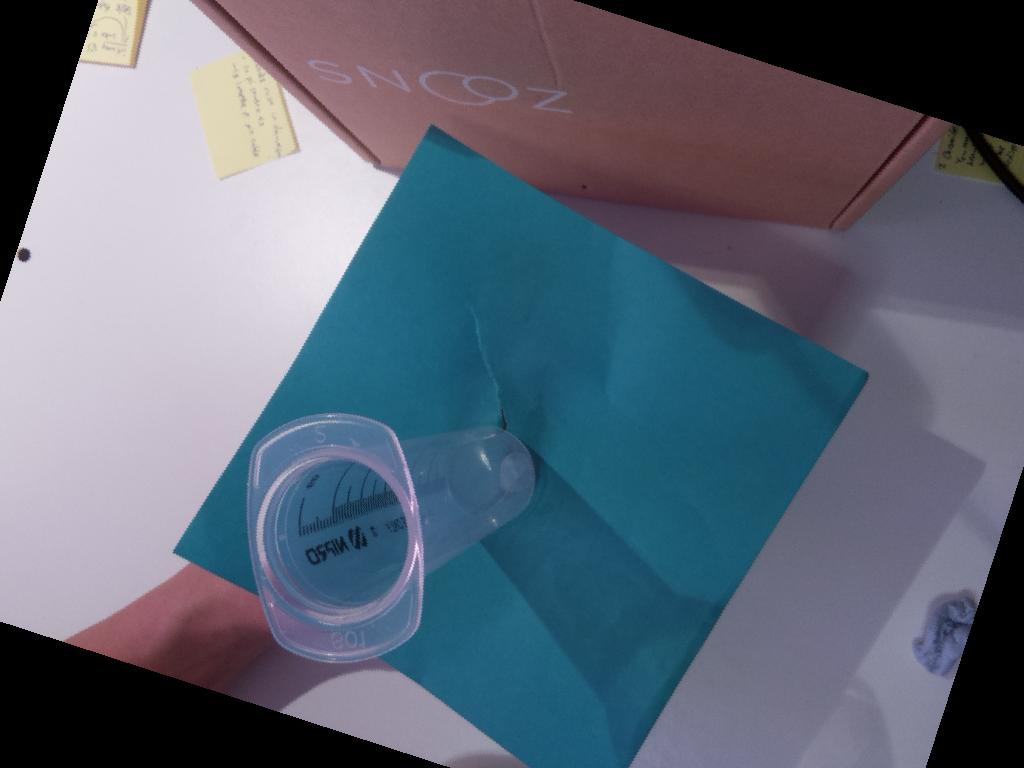clean: (245, 410, 423, 664)
